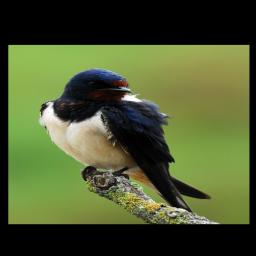Swallow: (37, 68, 213, 215)
